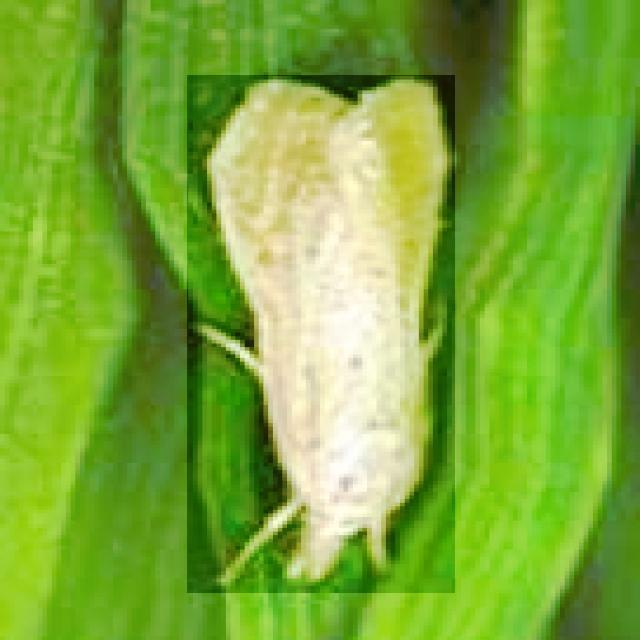stem-borer: (187, 75, 455, 593)
